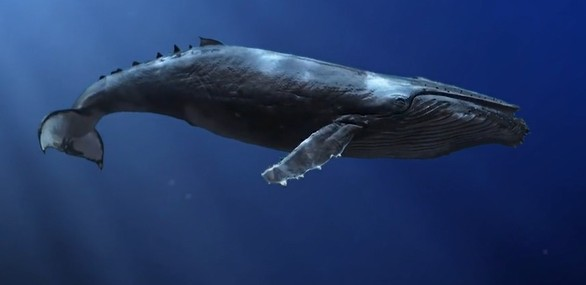whale: (29, 37, 530, 187)
